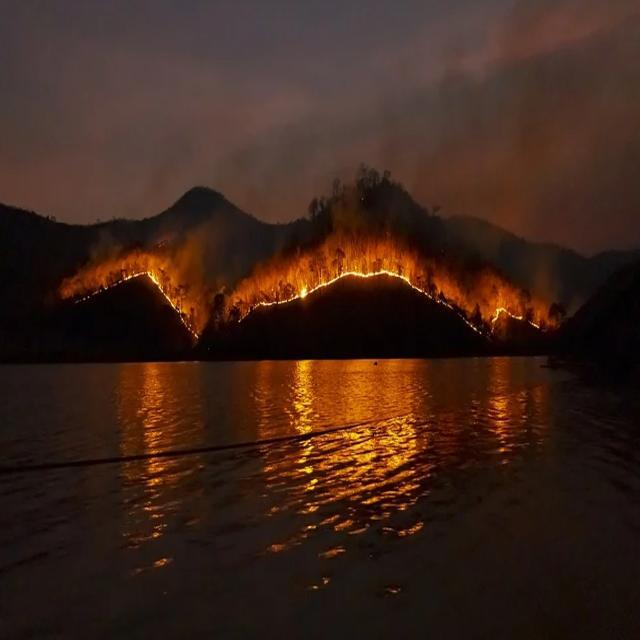Fire: (218, 232, 570, 358), (57, 254, 211, 352)
Smoke: (469, 10, 640, 232)
